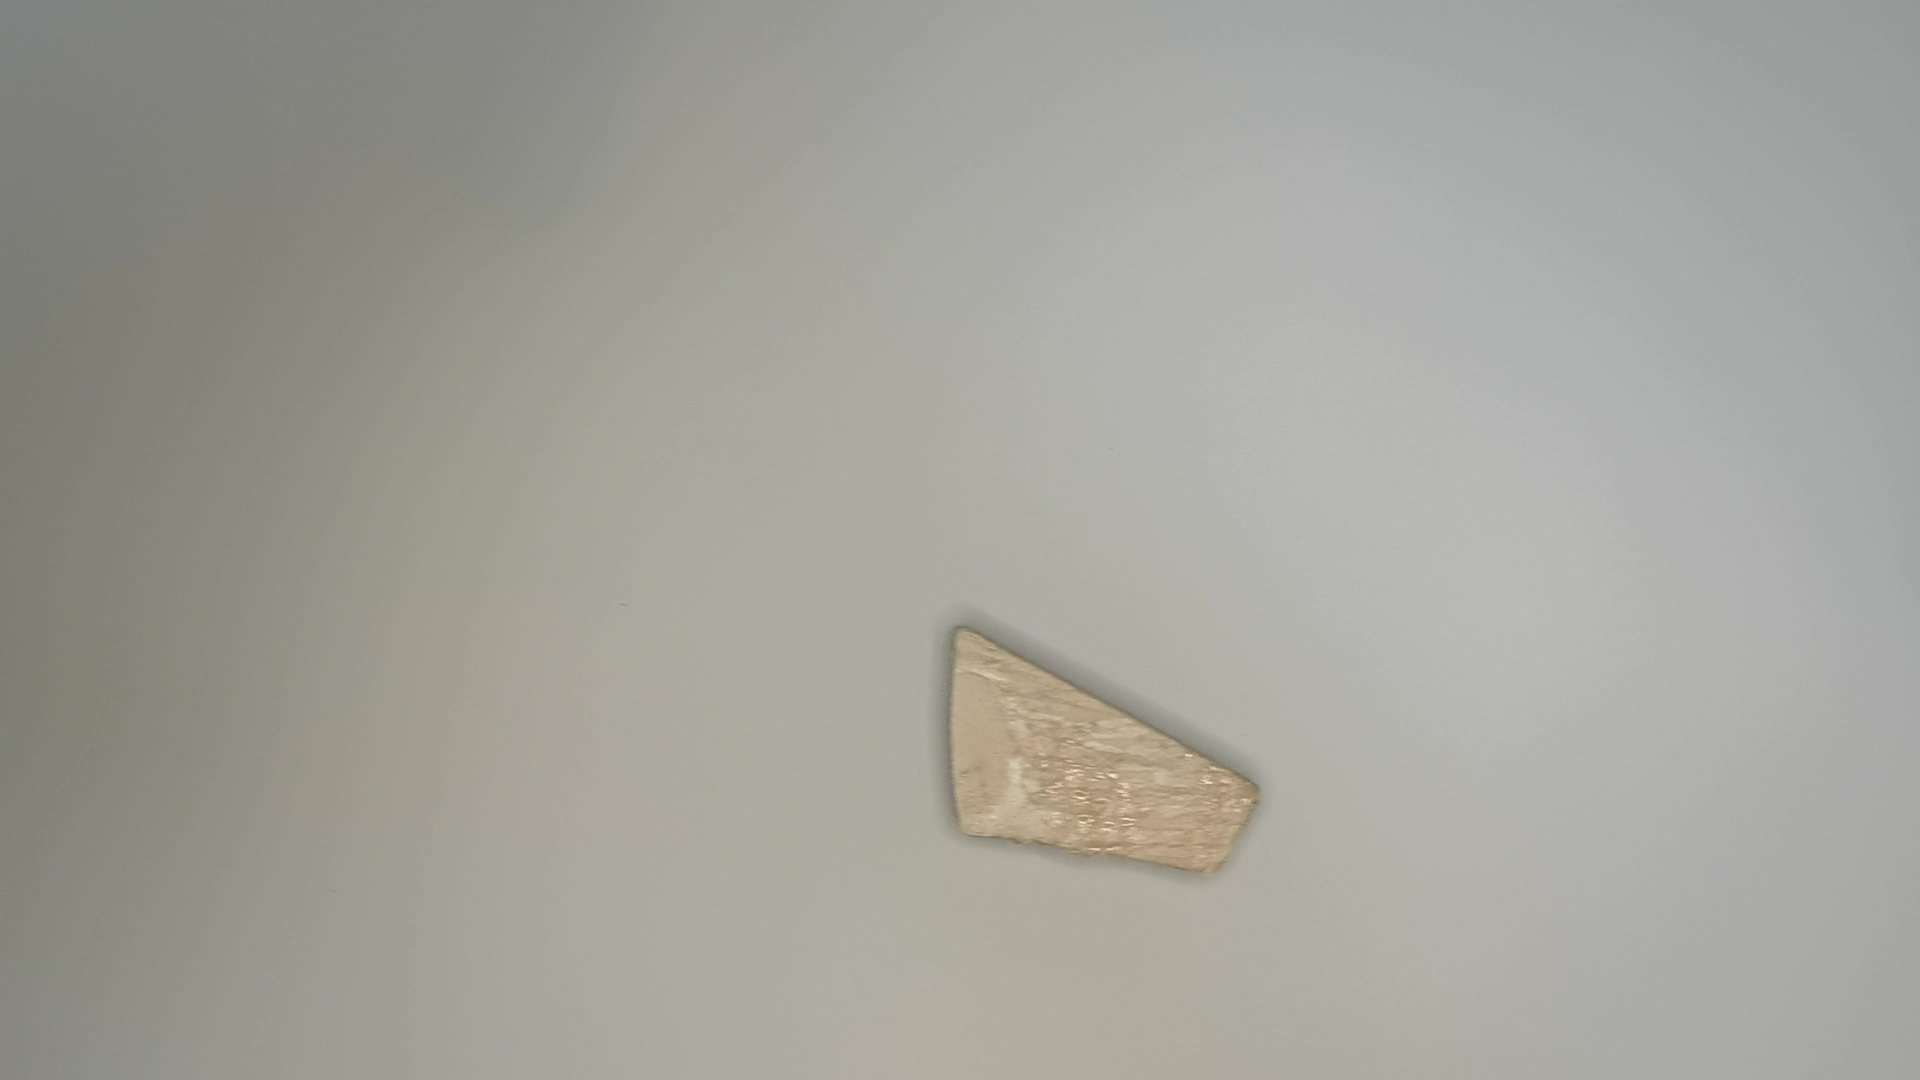ceramic: (934, 617, 1271, 885)
